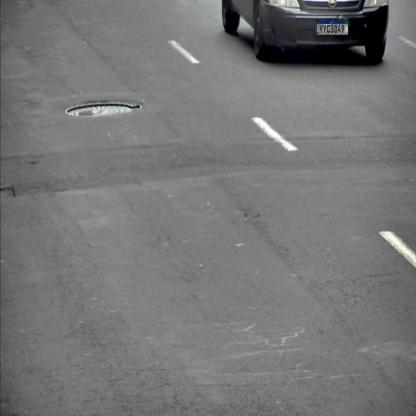PlacaM: (316, 20, 348, 36)
